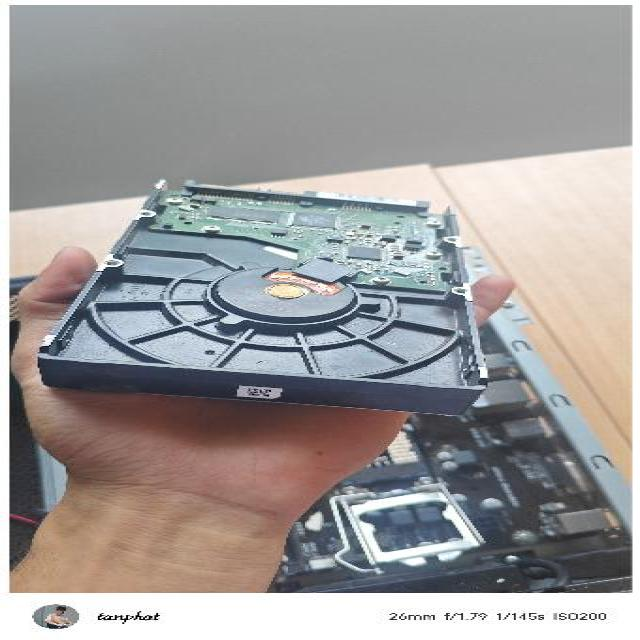DISK: (36, 176, 495, 416)
